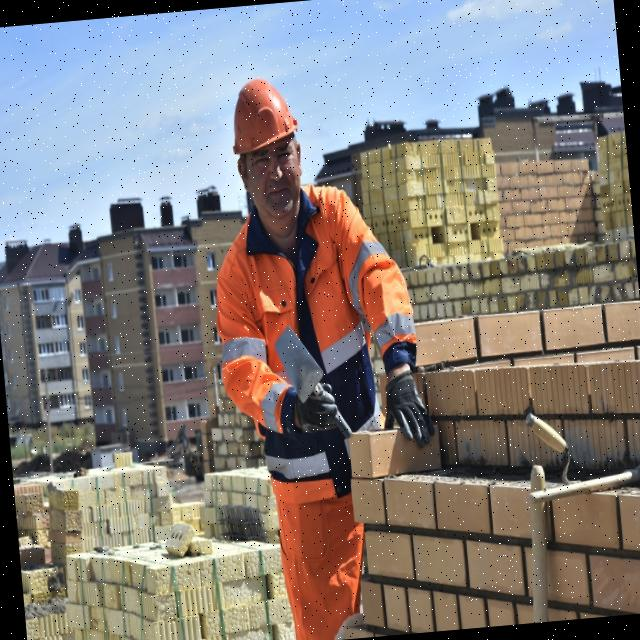Helmet: (228, 76, 303, 168)
Jacket: (226, 187, 379, 471)
